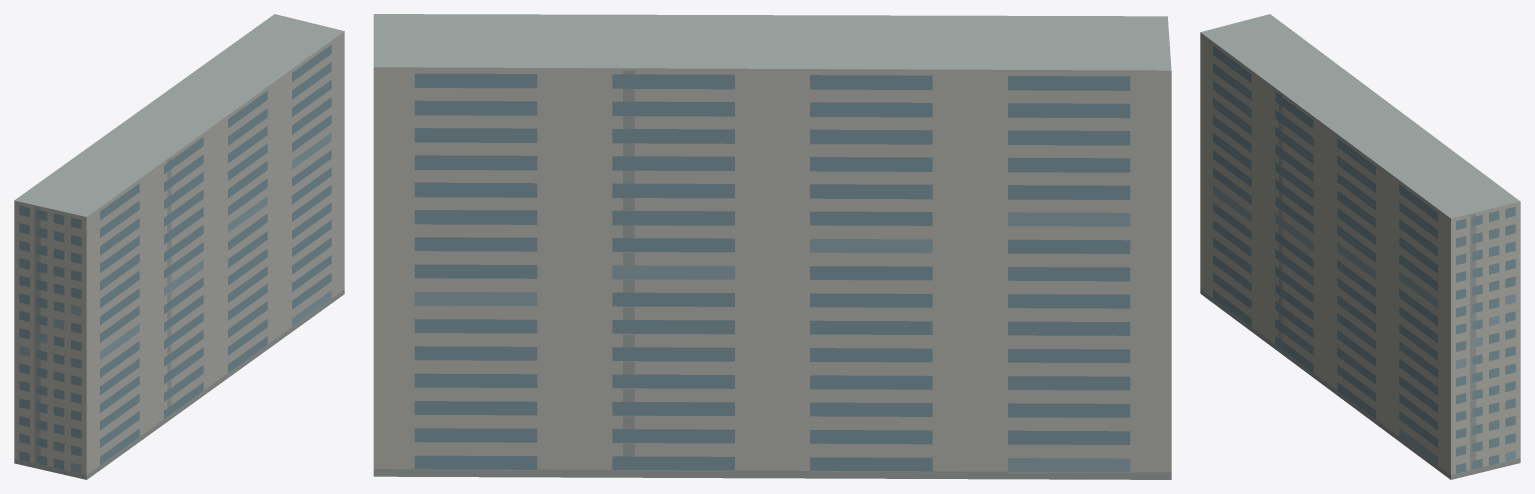
The model's file is residential-131fd55f-72c2-41f7-991b-68b369426a7d.glb.
3 renders of one model, left to right at view 1: azimuth 30°, elevation 25°; view 2: azimuth 150°, elevation 25°; view 3: azimuth 270°, elevation 25°, orthographic. The views are drawn at different scales.
Visible parts, largest first — view 1: residential-131fd55f-72c2-41f7-991b-68b369426a7d.tmp; view 2: residential-131fd55f-72c2-41f7-991b-68b369426a7d.tmp; view 3: residential-131fd55f-72c2-41f7-991b-68b369426a7d.tmp.
Part boxes in pixels (x1=…): residential-131fd55f-72c2-41f7-991b-68b369426a7d.tmp: x1=14, y1=14, x2=344, y2=479; residential-131fd55f-72c2-41f7-991b-68b369426a7d.tmp: x1=373, y1=14, x2=1171, y2=479; residential-131fd55f-72c2-41f7-991b-68b369426a7d.tmp: x1=1200, y1=14, x2=1520, y2=479.
Size of the model in its own units: 76.76 by 45.75 by 50.82.
